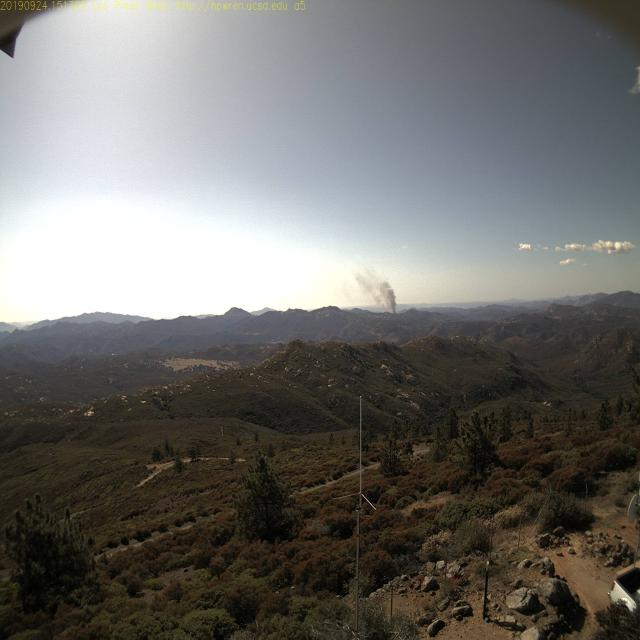smoke: (372, 280, 400, 315)
